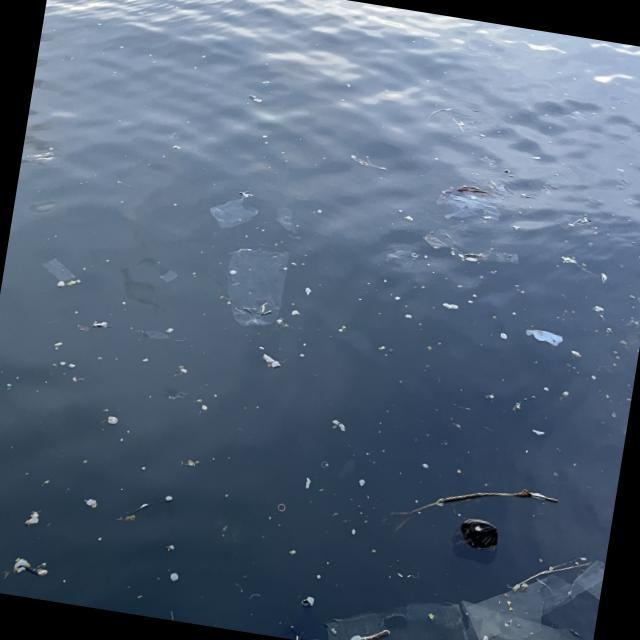plastic bag: (230, 244, 287, 330), (211, 196, 261, 226)
